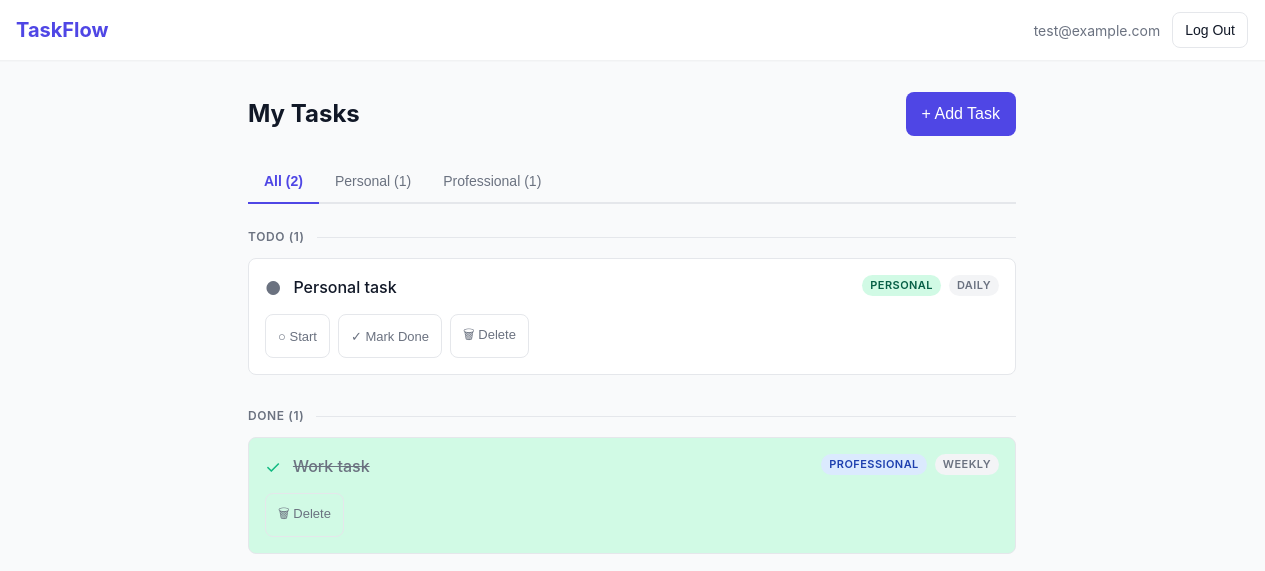
Test case: Dashboard — category filter › filters to PERSONAL tasks when Personal tab clicked
This screenshot has width=1265, height=571.
expect the text "Personal task" is shown: met, box [294, 277, 397, 297]
Click the tab "Personal (1)" at coordinates (373, 182), box [319, 160, 427, 204]
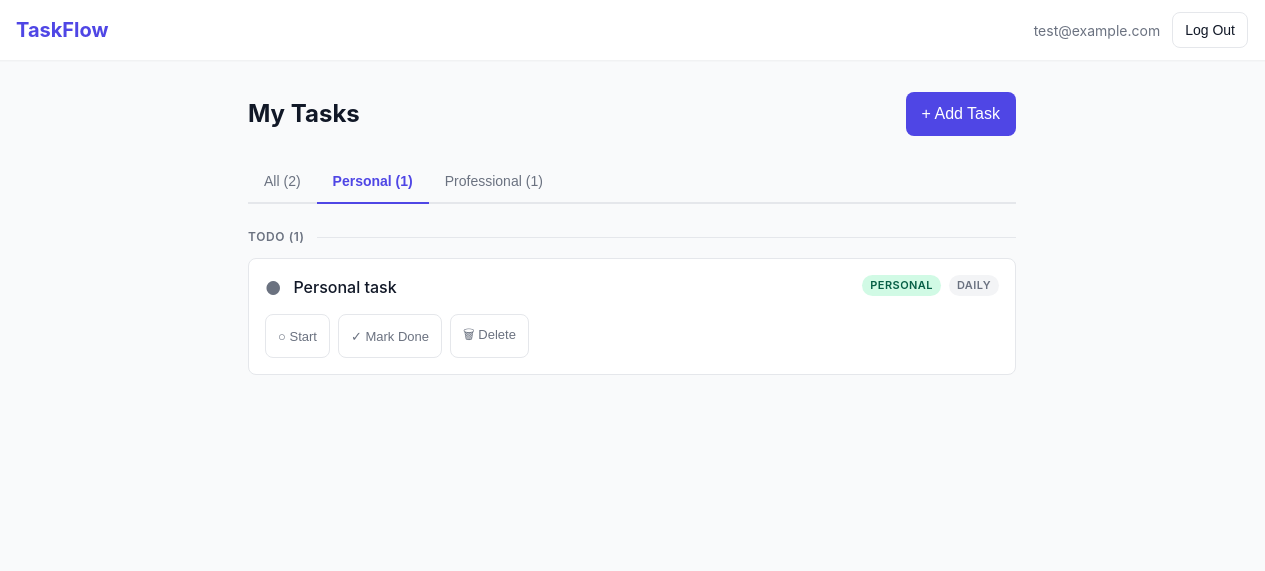
expect the text "Personal task" is shown: met, box [294, 277, 397, 297]
expect the text "Work task" is gone: met
